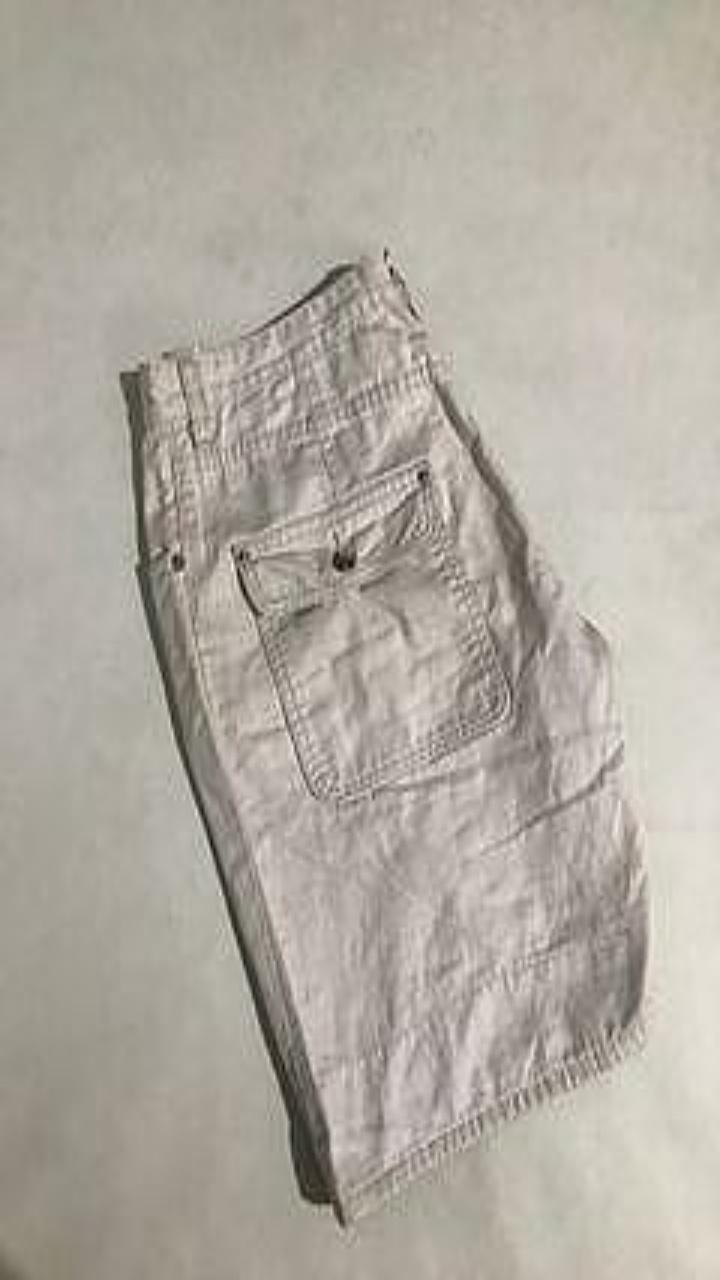Shorts: (137, 249, 647, 1222)
